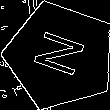N_E: (28, 28, 92, 83)
